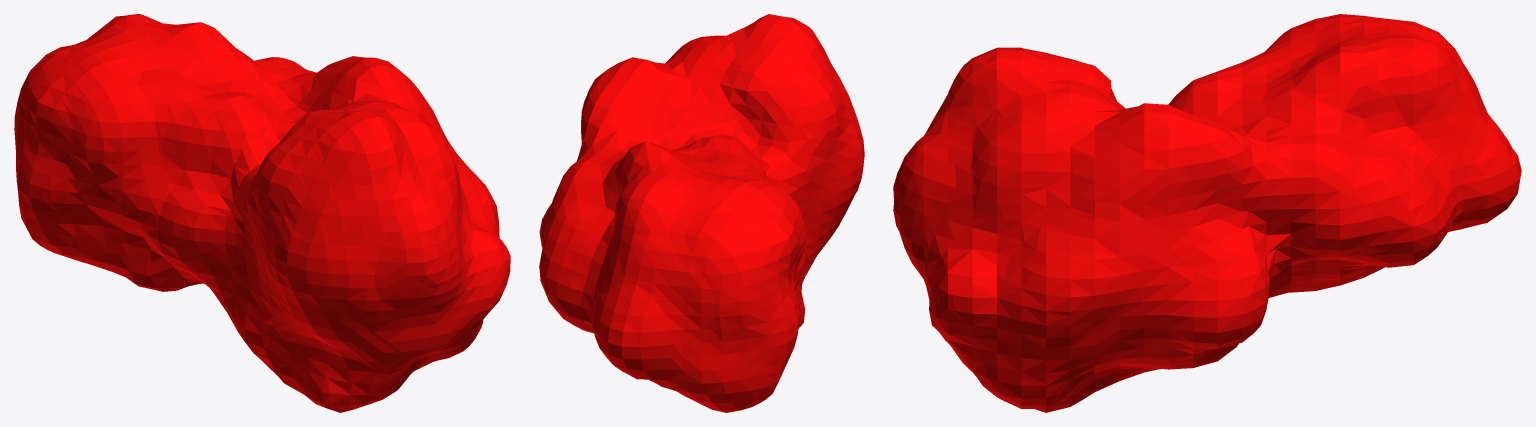
The model's file is pfkA_coarse.dae.
The picture shows the model from 3 angles, left to right: view 1: azimuth 30°, elevation 25°; view 2: azimuth 150°, elevation 25°; view 3: azimuth 270°, elevation 25°; orthographic projection. The views are drawn at different scales.
Visible parts, largest first — view 1: pfkA; view 2: pfkA; view 3: pfkA.
Boxes of the visible parts, box(x1,y1,x2,y2) form: pfkA: box(14, 14, 510, 412); pfkA: box(539, 14, 864, 412); pfkA: box(893, 14, 1521, 412).
Bounding box in the file's own units: 52.95 × 45.73 × 75.83.
